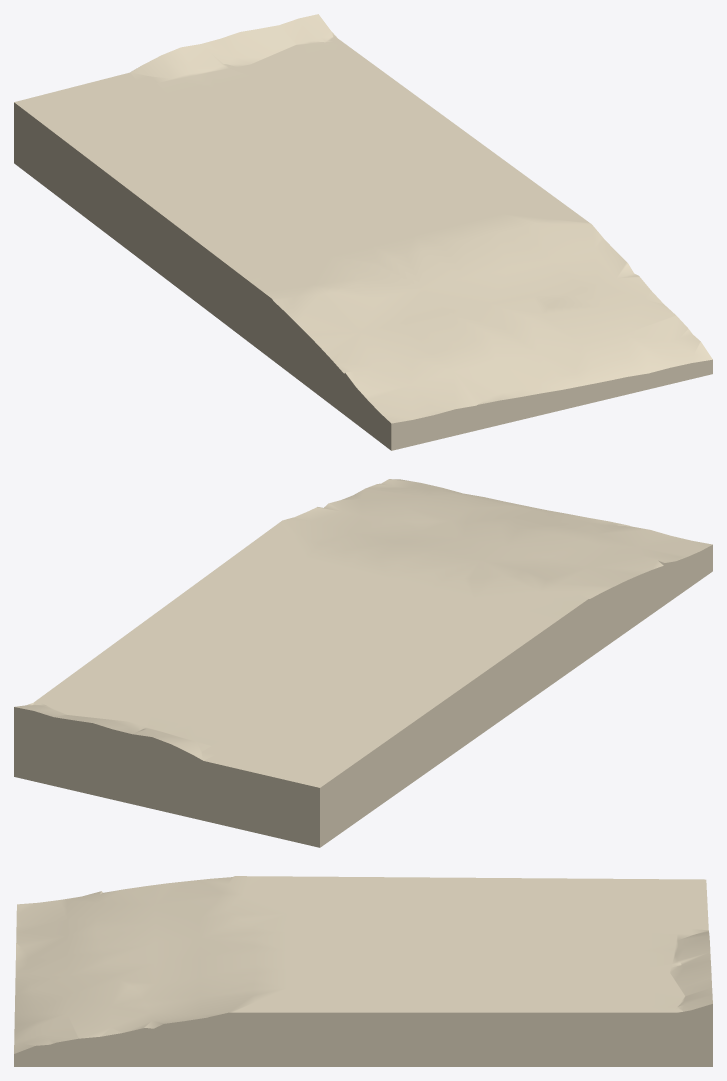
3 renders of one model, top to bottom at view 1: azimuth 30°, elevation 25°; view 2: azimuth 150°, elevation 25°; view 3: azimuth 270°, elevation 25°, orthographic. The views are drawn at different scales.
Visible parts, largest first — view 1: FD-L12-GND-FINISHED-CANDIDATE; view 2: FD-L12-GND-FINISHED-CANDIDATE; view 3: FD-L12-GND-FINISHED-CANDIDATE.
Part boxes in pixels (x1,y1,x2,y2): FD-L12-GND-FINISHED-CANDIDATE: (14, 14, 712, 450); FD-L12-GND-FINISHED-CANDIDATE: (14, 479, 712, 847); FD-L12-GND-FINISHED-CANDIDATE: (14, 876, 712, 1066).
Bounding box in the file's own units: 18.55 × 4.07 × 39.63.
